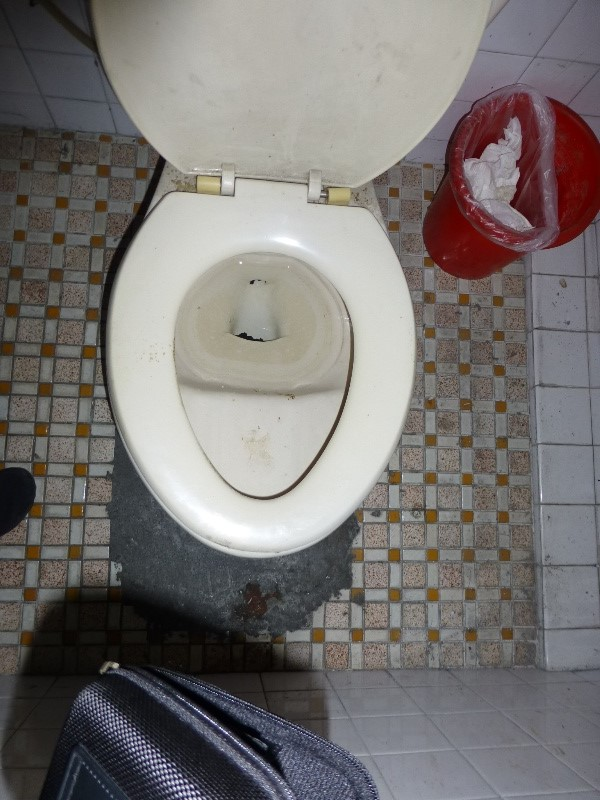bucket: (416, 83, 600, 283)
toilet: (89, 3, 494, 569)
